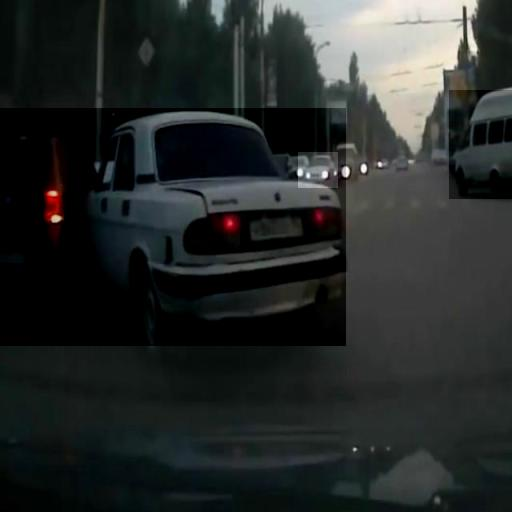小汽车: (449, 90, 512, 199), (298, 152, 338, 188)
小汽车撞小汽车: (0, 108, 346, 346)
